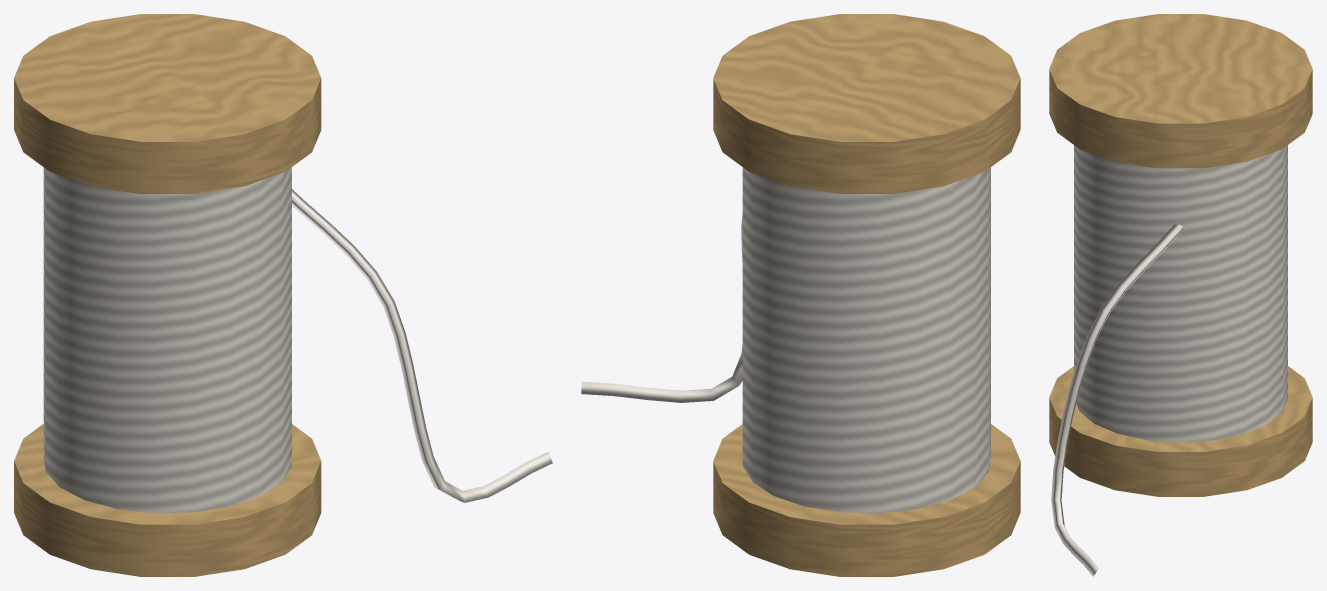
The model's file is thread.glb.
3 views of the same model, side by side, from view 1: azimuth 30°, elevation 25°; view 2: azimuth 150°, elevation 25°; view 3: azimuth 270°, elevation 25° (orthographic). The views are drawn at different scales.
Parts seen in each view (by area): view 1: thread; view 2: thread; view 3: thread.
Part boxes in pixels (<box>): thread: <box>14,14,552,576</box>; thread: <box>581,14,1020,576</box>; thread: <box>1049,14,1312,576</box>.
Size of the model in its own units: 0.1119 by 0.1 by 0.064.
Materials: 3 (2 with a texture image).
